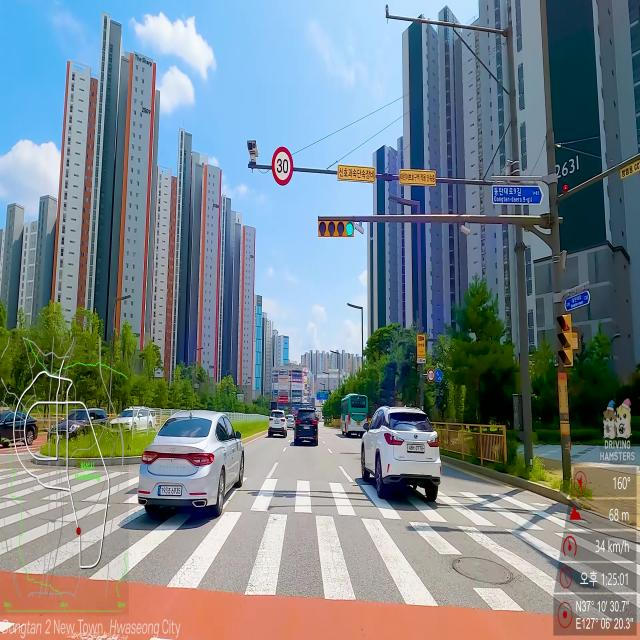Green Light: (345, 221, 354, 237)
